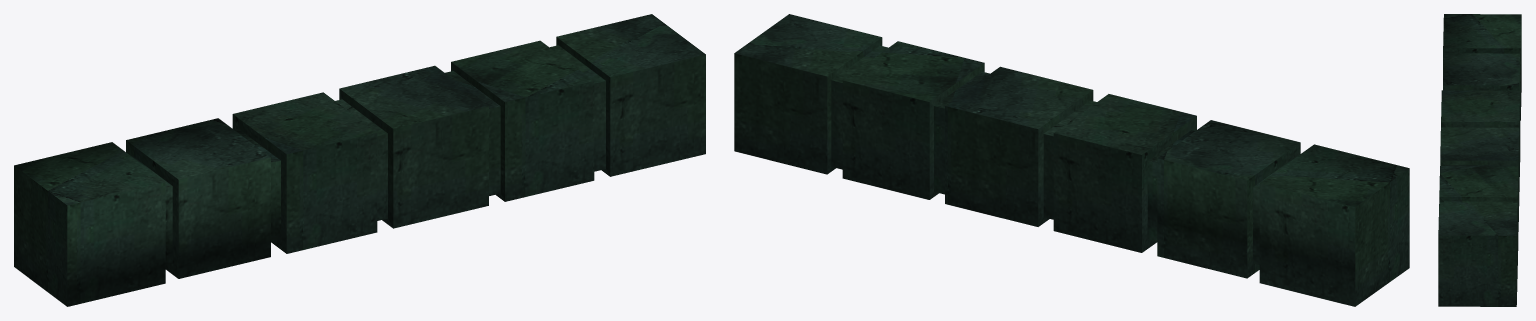
File: BancoMaterial_Plaza03.fbx
3 renders of one model, left to right at view 1: azimuth 30°, elevation 25°; view 2: azimuth 150°, elevation 25°; view 3: azimuth 270°, elevation 25°, orthographic. The views are drawn at different scales.
Parts seen in each view (by area): view 1: Cube.009; view 2: Cube.009; view 3: Cube.009.
Boxes of the visible parts, x1,y1,x2,y2 form: Cube.009: (14, 14, 705, 306); Cube.009: (734, 14, 1409, 306); Cube.009: (1438, 14, 1521, 306).
Size of the model in its own units: 8.01 by 1.22 by 1.27.
1 material, 1 textured.
